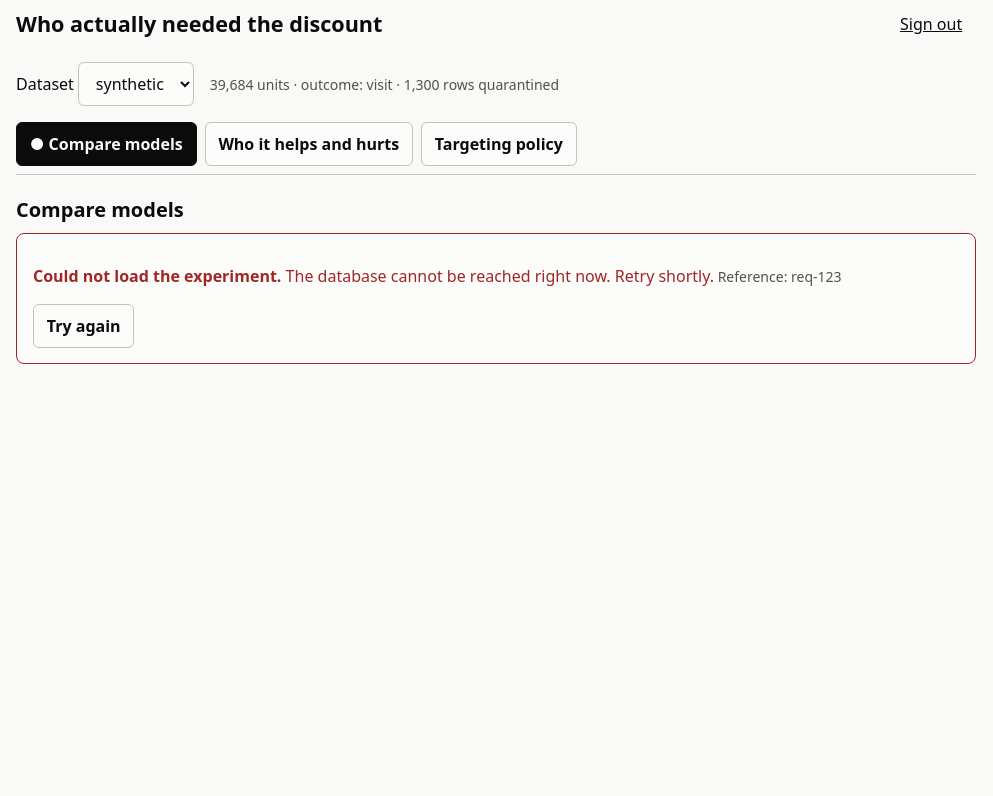
Test case: comparing models › retries transient failures on its own, then hands the error to the user with a way out
Check: the message shows "Could not load the experiment. The database cannot be reached right now.", box [16,233,976,364]
Check: the message shows "Reference: req-123", box [16,233,976,364]
Click the button "Try again" at (84, 326), box [33,304,134,348]
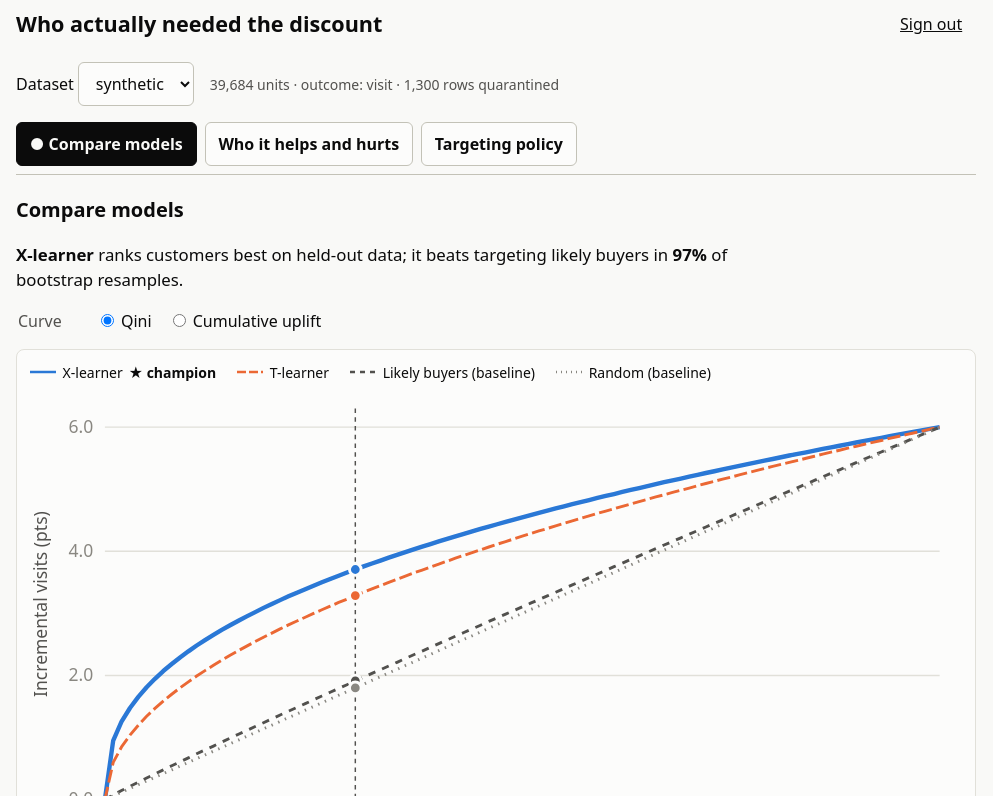
Check: the text "ranks customers best" is shown, box [94,243,402,266]
